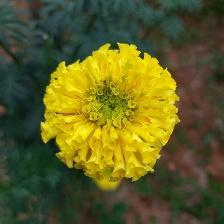marigold: (41, 43, 179, 182)
